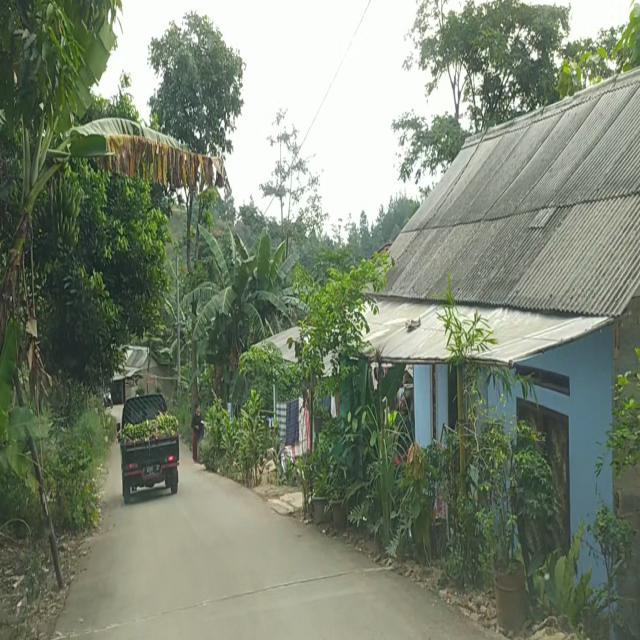Sewer Cover: (195, 564, 365, 604)
